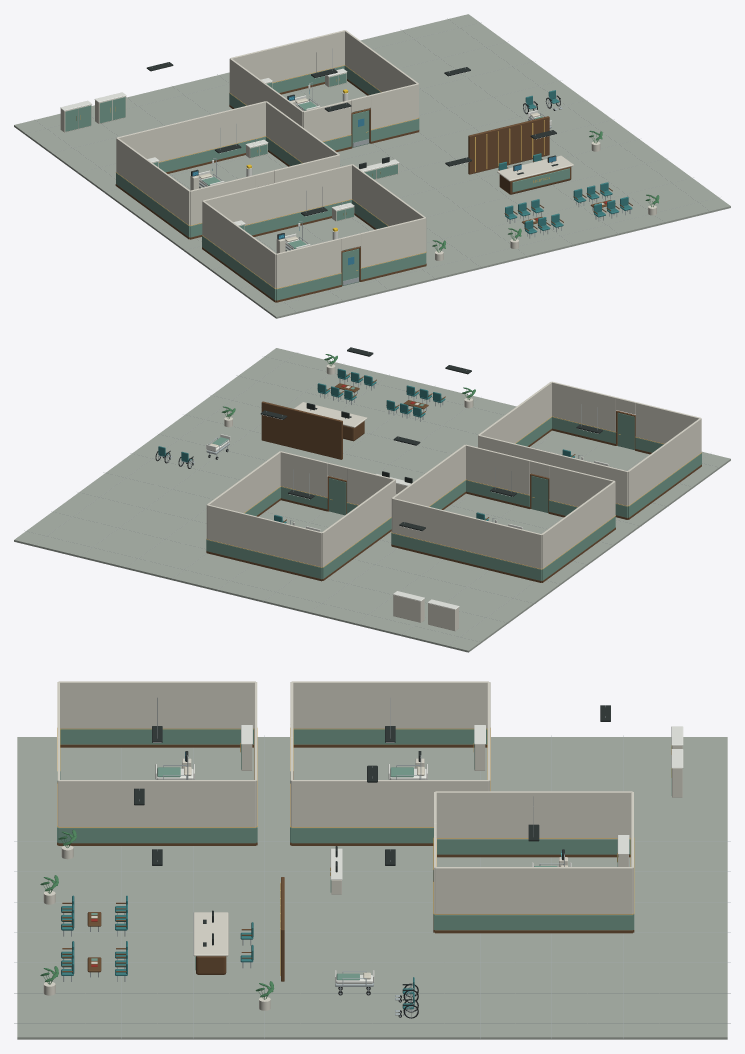
The model's file is hospital-ground.glb.
The picture shows the model from 3 angles, top to bottom: view 1: azimuth 30°, elevation 25°; view 2: azimuth 150°, elevation 25°; view 3: azimuth 270°, elevation 25°; orthographic projection. The views are drawn at different scales.
Visible parts, largest first — view 1: Hospital_Ground__Warm terrazzo, Hospital_Ground__Warm plaster, Hospital_Ground__Hospital sage, Hospital_Ground__Smoked oak, Hospital_Ground__Satin stainless steel, Hospital_Ground__Petrol upholstery, Hospital_Ground__Clinical enamel, Hospital_Ground__Brushed warm brass, Hospital_Ground__Graphite, Treatment_Hinge__Hospital sage, Exam_A_Hinge__Hospital sage; view 2: Hospital_Ground__Warm terrazzo, Hospital_Ground__Warm plaster, Hospital_Ground__Hospital sage, Hospital_Ground__Smoked oak, Hospital_Ground__Satin stainless steel, Hospital_Ground__Petrol upholstery, Hospital_Ground__Graphite, Hospital_Ground__Brushed warm brass, Hospital_Ground__Clinical enamel, Exam_A_Hinge__Hospital sage, Treatment_Hinge__Hospital sage, Exam_B_Hinge__Hospital sage; view 3: Hospital_Ground__Warm terrazzo, Hospital_Ground__Warm plaster, Hospital_Ground__Hospital sage, Hospital_Ground__Smoked oak, Hospital_Ground__Satin stainless steel, Hospital_Ground__Clinical enamel, Hospital_Ground__Brushed warm brass, Hospital_Ground__Graphite, Hospital_Ground__Petrol upholstery, Hospital_Ground__Plant foliage.
Part boxes in pixels (<box>): Hospital_Ground__Warm terrazzo: <box>14,14,730,318</box>; Hospital_Ground__Warm plaster: <box>60,30,656,288</box>; Hospital_Ground__Hospital sage: <box>65,65,597,300</box>; Hospital_Ground__Smoked oak: <box>115,79,632,302</box>; Hospital_Ground__Satin stainless steel: <box>25,18,718,312</box>; Hospital_Ground__Petrol upholstery: <box>344,90,632,250</box>; Hospital_Ground__Clinical enamel: <box>60,68,551,249</box>; Hospital_Ground__Brushed warm brass: <box>76,65,549,288</box>; Hospital_Ground__Graphite: <box>146,62,560,239</box>; Treatment_Hinge__Hospital sage: <box>352,110,369,147</box>; Exam_A_Hinge__Hospital sage: <box>342,248,359,285</box>; Hospital_Ground__Warm terrazzo: <box>14,348,730,652</box>; Hospital_Ground__Warm plaster: <box>206,364,701,630</box>; Hospital_Ground__Hospital sage: <box>206,387,701,580</box>; Hospital_Ground__Smoked oak: <box>206,373,701,582</box>; Hospital_Ground__Satin stainless steel: <box>24,348,720,645</box>; Hospital_Ground__Petrol upholstery: <box>158,368,574,523</box>; Hospital_Ground__Graphite: <box>157,347,602,531</box>; Hospital_Ground__Brushed warm brass: <box>206,416,701,569</box>; Hospital_Ground__Clinical enamel: <box>206,434,608,609</box>; Exam_A_Hinge__Hospital sage: <box>617,412,634,449</box>; Treatment_Hinge__Hospital sage: <box>329,478,346,515</box>; Exam_B_Hinge__Hospital sage: <box>531,475,548,512</box>; Hospital_Ground__Warm terrazzo: <box>17,737,727,1039</box>; Hospital_Ground__Warm plaster: <box>43,681,682,1010</box>; Hospital_Ground__Hospital sage: <box>57,729,671,980</box>; Hospital_Ground__Smoked oak: <box>57,744,634,981</box>; Hospital_Ground__Satin stainless steel: <box>14,697,730,1038</box>; Hospital_Ground__Clinical enamel: <box>155,725,683,983</box>; Hospital_Ground__Brushed warm brass: <box>57,728,671,975</box>; Hospital_Ground__Graphite: <box>134,705,610,1005</box>; Hospital_Ground__Petrol upholstery: <box>61,895,414,1009</box>; Hospital_Ground__Plant foliage: <box>40,829,274,999</box>.
Size of the model in its own units: 39.98 by 5.88 by 39.98.
